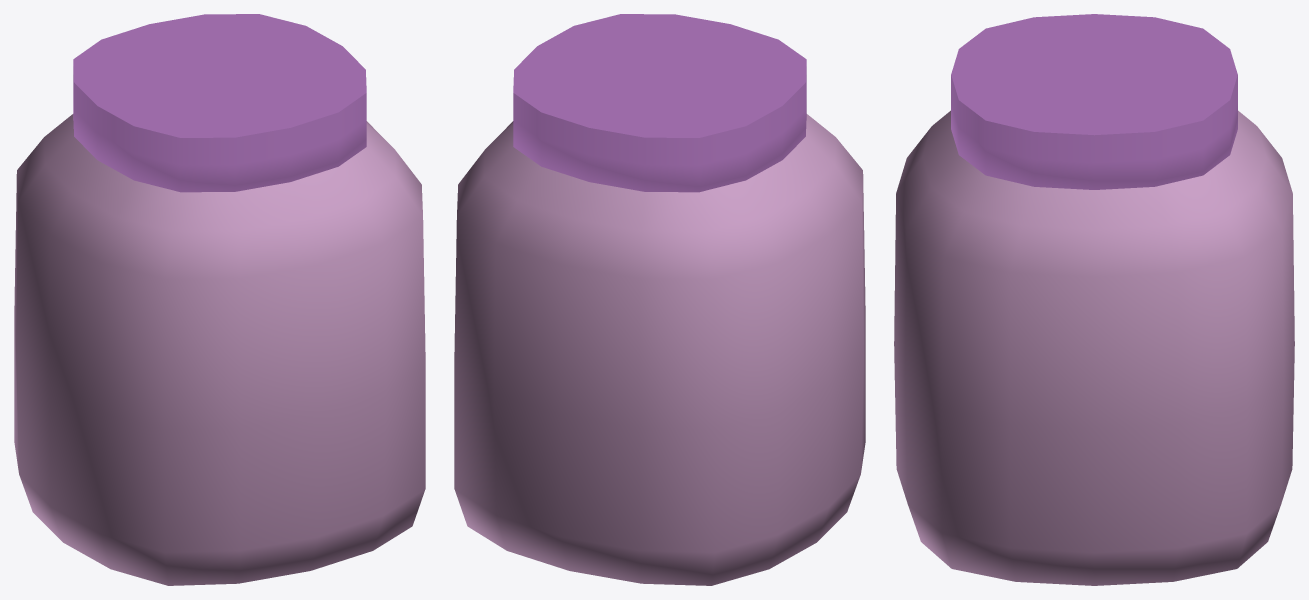
File: Prop_FireJar.glb
3 views of the same model, side by side, from view 1: azimuth 30°, elevation 25°; view 2: azimuth 150°, elevation 25°; view 3: azimuth 270°, elevation 25° (orthographic).
Parts seen in each view (by area): view 1: JarGlass, JarLid; view 2: JarGlass, JarLid; view 3: JarGlass, JarLid.
Boxes of the visible parts, x1,y1,x2,y2 form: JarGlass: (14,114,425,585); JarLid: (73,14,366,192); JarGlass: (454,114,865,585); JarLid: (513,14,806,192); JarGlass: (894,110,1294,585); JarLid: (951,14,1237,189).
Bounding box in the file's own units: 1.38 × 1.66 × 1.38.
Materials: 2 (2 with a texture image).
